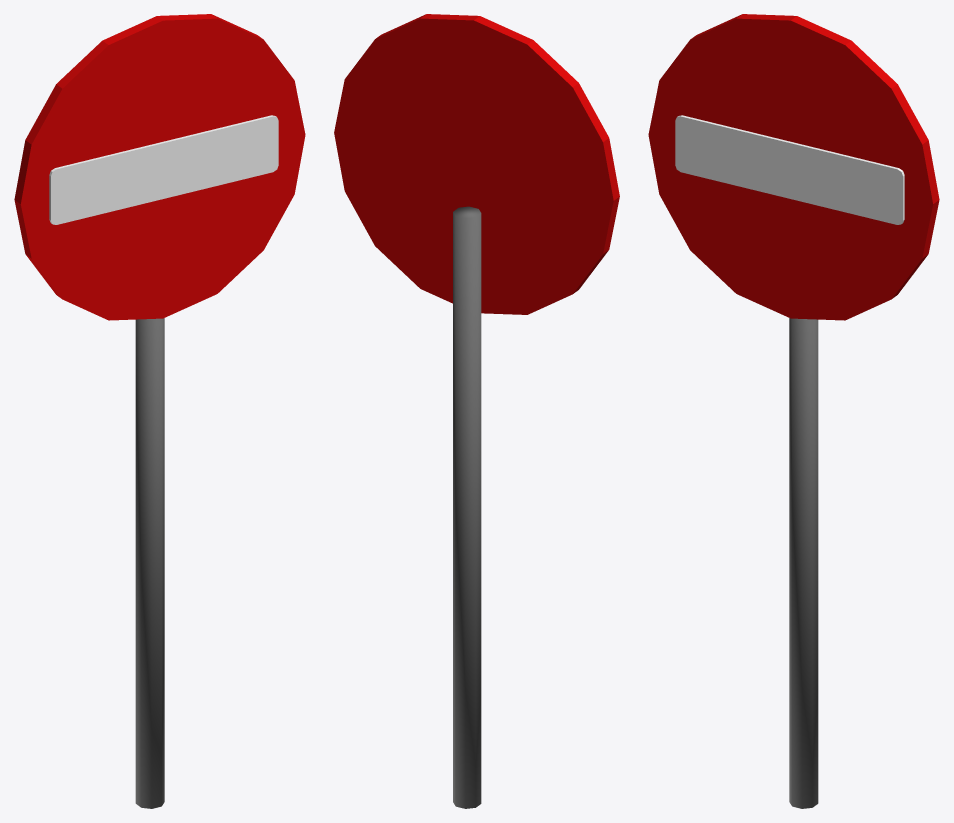
The model's file is Prop_StreetSign_NoEntery.fbx.
The picture shows the model from 3 angles, left to right: view 1: azimuth 30°, elevation 25°; view 2: azimuth 150°, elevation 25°; view 3: azimuth 330°, elevation 25°; orthographic projection.
Parts seen in each view (by area): view 1: Prop_StreetSign_NoEntery; view 2: Prop_StreetSign_NoEntery; view 3: Prop_StreetSign_NoEntery.
Boxes of the visible parts, x1=… form: Prop_StreetSign_NoEntery: x1=14, y1=14, x2=305, y2=808; Prop_StreetSign_NoEntery: x1=334, y1=14, x2=619, y2=808; Prop_StreetSign_NoEntery: x1=648, y1=14, x2=939, y2=808.
Size of the model in its own units: 164 by 435 by 21.36.
